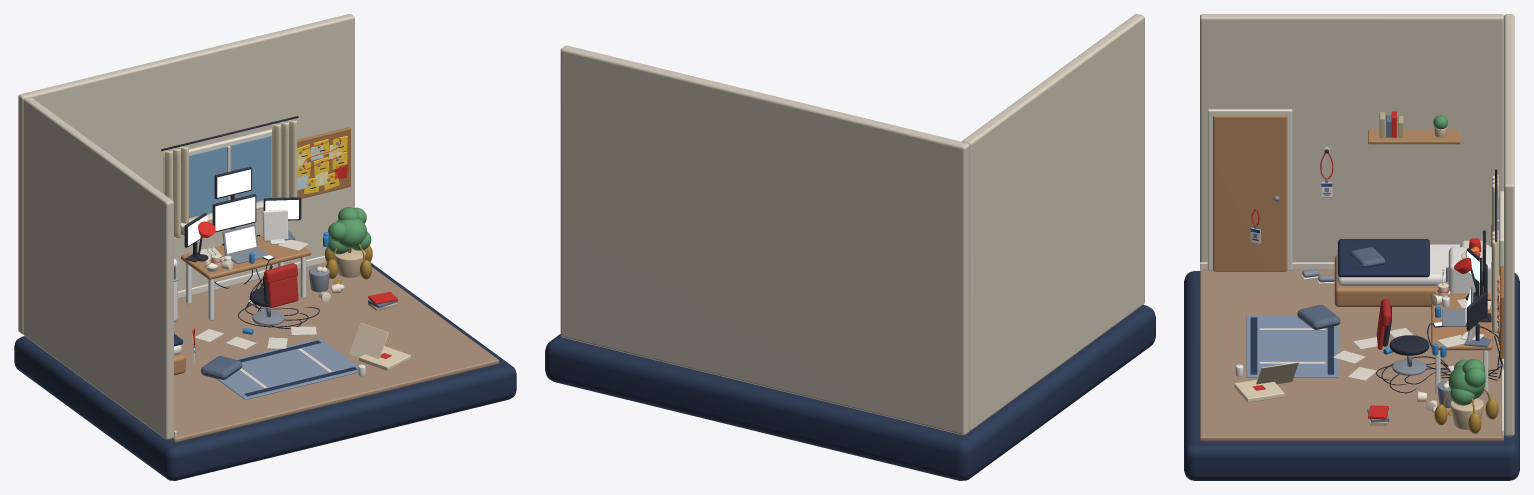
The model's file is room.glb.
3 renders of one model, left to right at view 1: azimuth 30°, elevation 25°; view 2: azimuth 150°, elevation 25°; view 3: azimuth 270°, elevation 25°, orthographic. The views are drawn at different scales.
Parts seen in each view (by area): view 1: SM_Env_Room_WallLeft, SM_Env_Room_WallBack, SM_Env_Room_Floor, SM_Env_Room_Base, SM_Env_Rug, SM_Env_Window_Glass, SM_Env_Curtain_R, SM_Env_Curtain_L, SM_Env_Desk_Top, SM_Env_Pin_Board, SM_Env_MonA_high_SCREEN, SM_Env_Pizza_Lid (+10 smaller); view 2: SM_Env_Room_WallBack, SM_Env_Room_WallLeft, SM_Env_Room_Base; view 3: SM_Env_Room_WallLeft, SM_Env_Room_Floor, SM_Env_Room_Base, SM_Env_Door_Leaf, SM_Env_Room_WallBack, SM_Env_Rug, SM_Env_Bed_Blanket, SM_Env_Door_Frame, SM_Env_Bed_Frame, SM_Env_Bed_Mattress, SM_Env_Desk_Top, SM_Env_Shelf (+17 smaller).
Boxes of the visible parts, x1,y1,x2,y2 form: SM_Env_Room_WallLeft: (23,97,173,439); SM_Env_Room_WallBack: (18,14,354,334); SM_Env_Room_Floor: (170,262,499,442); SM_Env_Room_Base: (14,262,516,480); SM_Env_Rug: (201,338,358,399); SM_Env_Window_Glass: (189,135,271,217); SM_Env_Curtain_R: (272,120,297,197); SM_Env_Curtain_L: (163,146,188,238); SM_Env_Desk_Top: (181,235,311,279); SM_Env_Pin_Board: (297,127,350,198); SM_Env_MonA_high_SCREEN: (215,197,255,230); SM_Env_Pizza_Lid: (348,322,388,358); SM_Env_Room_WallBack: (560,45,969,435); SM_Env_Room_WallLeft: (962,14,1144,430); SM_Env_Room_Base: (545,305,1155,480); SM_Env_Room_WallLeft: (1200,14,1503,262); SM_Env_Room_Floor: (1200,270,1503,441); SM_Env_Room_Base: (1184,271,1519,480); SM_Env_Door_Leaf: (1213,115,1287,271); SM_Env_Room_WallBack: (1504,14,1514,436); SM_Env_Rug: (1246,315,1338,377); SM_Env_Bed_Blanket: (1338,239,1429,277); SM_Env_Door_Frame: (1207,109,1292,270); SM_Env_Bed_Frame: (1334,255,1448,306); SM_Env_Bed_Mattress: (1337,244,1489,286); SM_Env_Desk_Top: (1431,293,1492,350); SM_Env_Shelf: (1368,130,1460,144).
Size of the model in its own units: 3.24 by 2.44 by 2.54.
